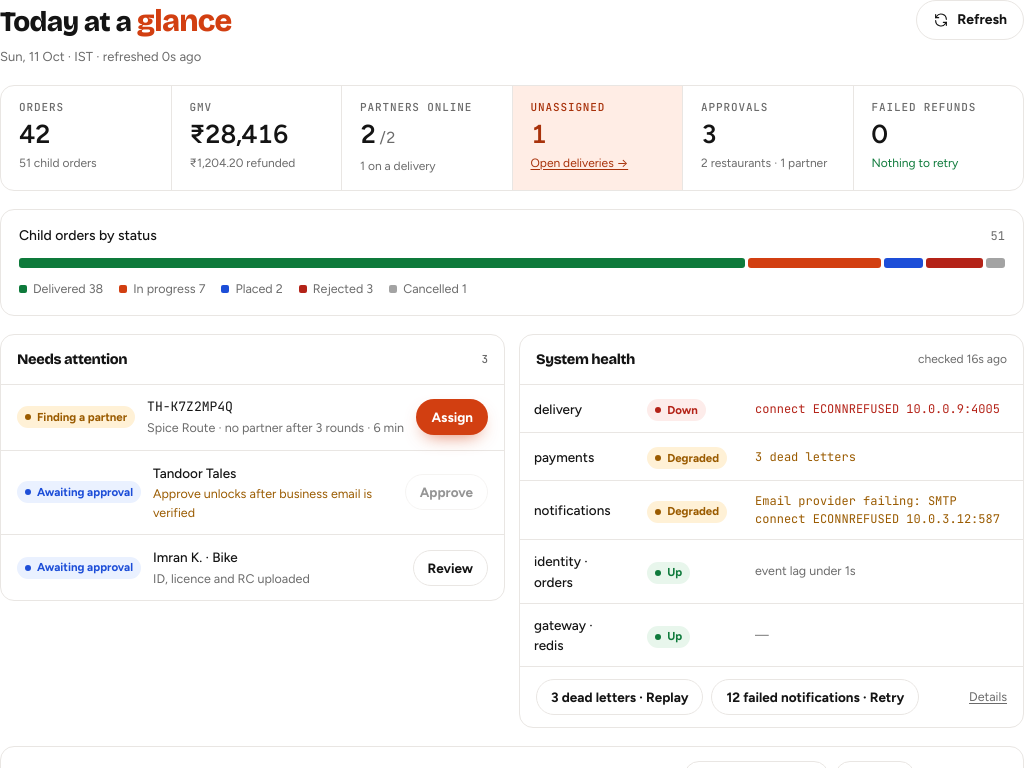
it: Admin overview (board 40) › system health shows real reasons (failing provider = Degraded), then bulk replay (NTF-3) and bulk retry (NTF-2)
Expected: the text "connect ECONNREFUSED 10.0.0.9:4005" is shown, [741, 385, 1023, 433]
Expected: the text "Degraded" is shown, [647, 501, 727, 523]
Click the button "3 dead letters · Replay" at x=620, y=697, box [536, 679, 703, 715]
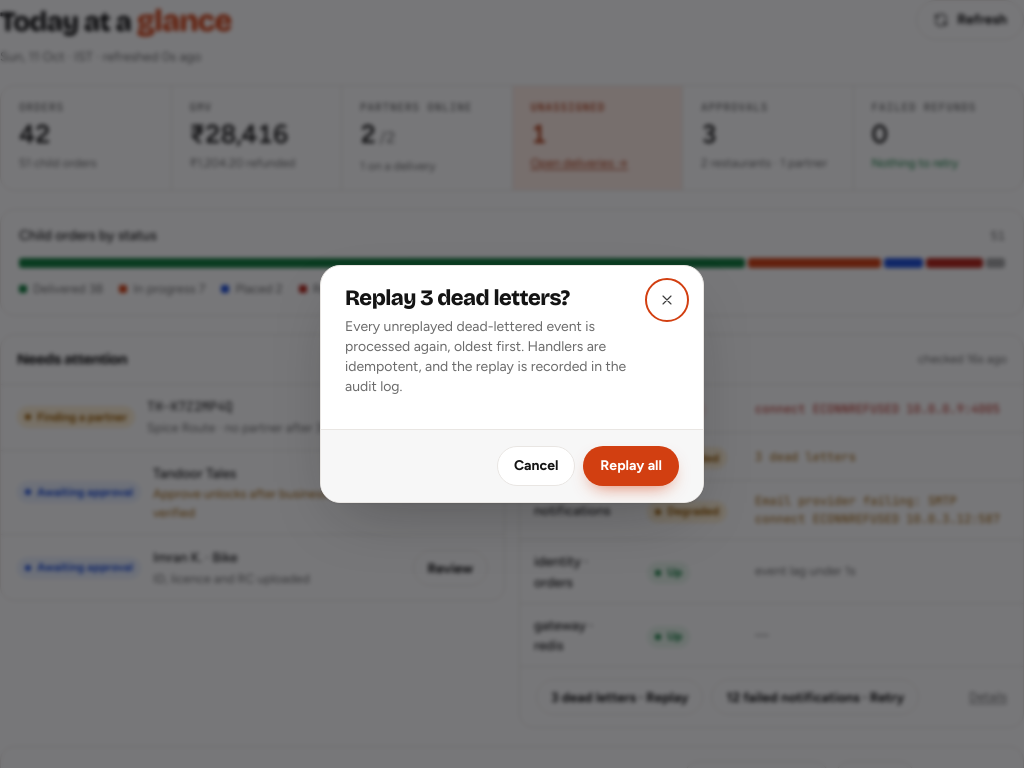
Click the button "Replay all" at x=631, y=466, box [583, 446, 679, 486]
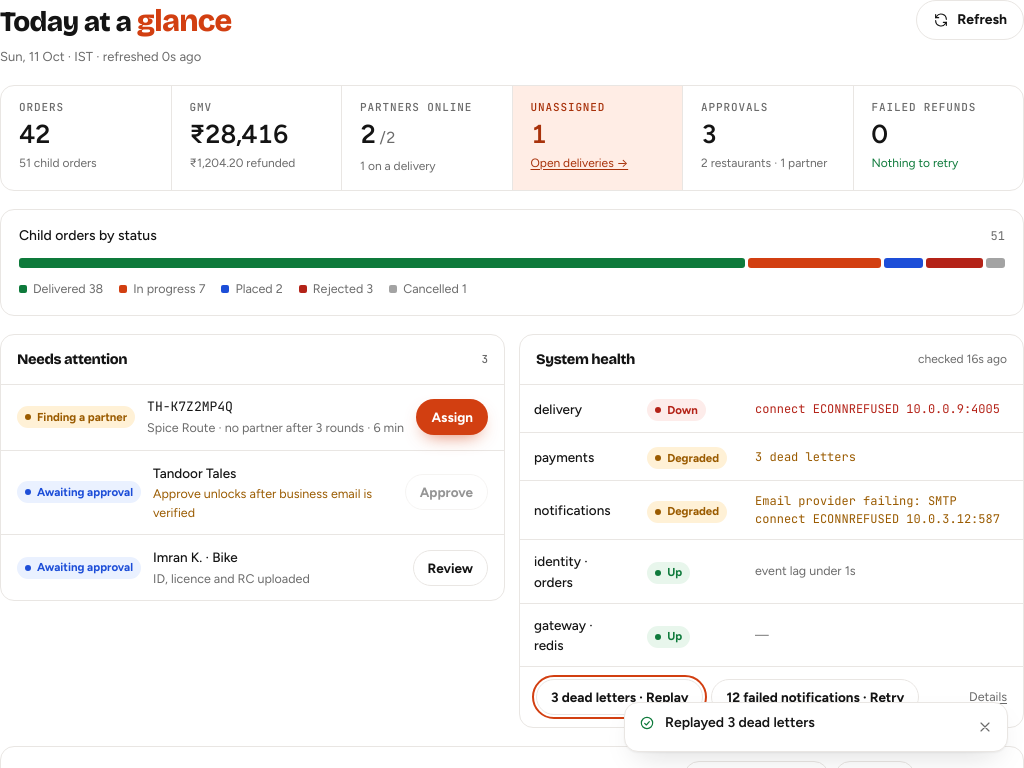
Click the button "12 failed notifications · Retry" at x=815, y=697, box [711, 679, 919, 715]
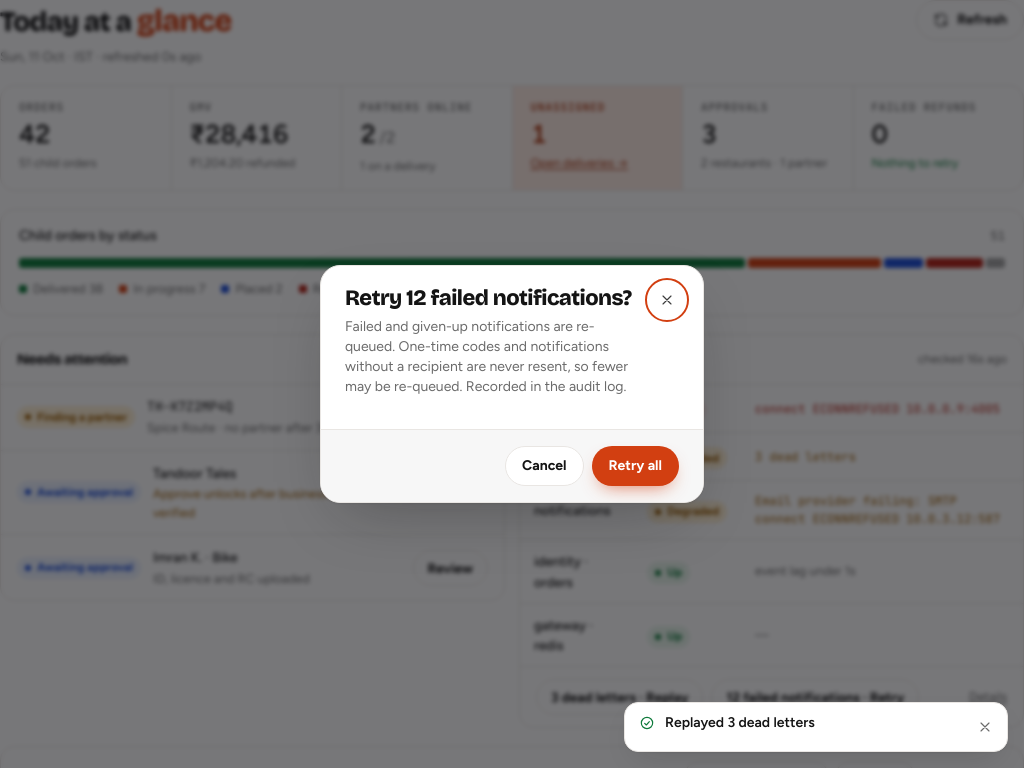
Click the button "Retry all" at x=635, y=466, box [592, 446, 679, 486]
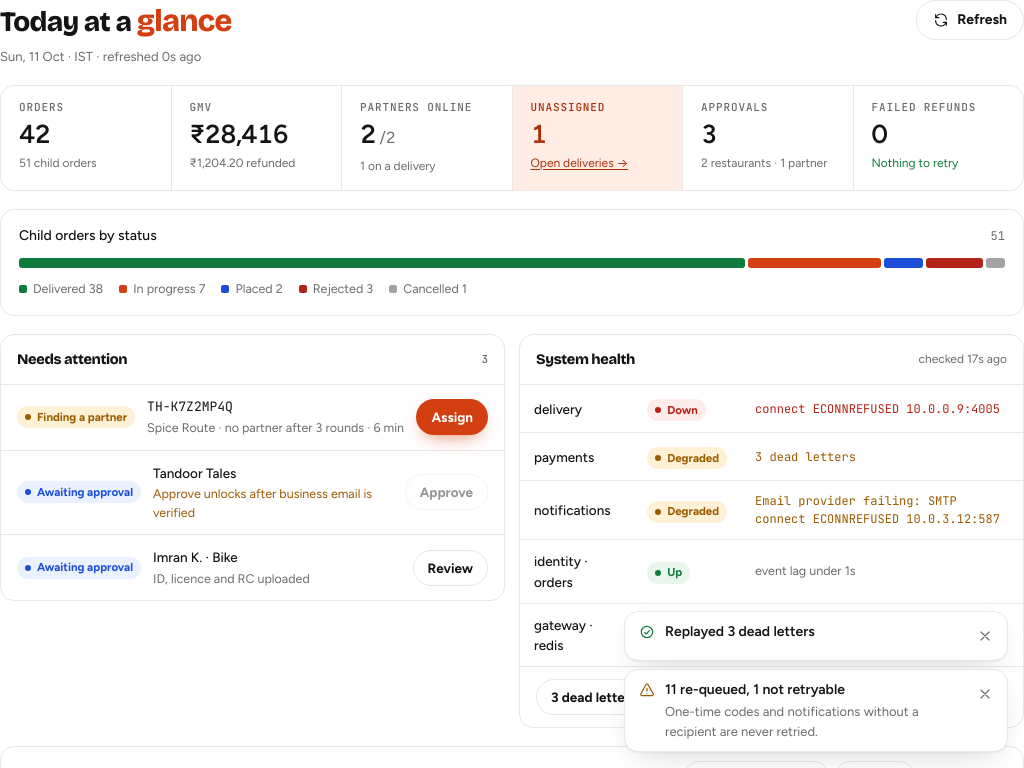
Expected: the text "11 re-queued, 1 not retryable" is shown, [664, 680, 845, 698]
